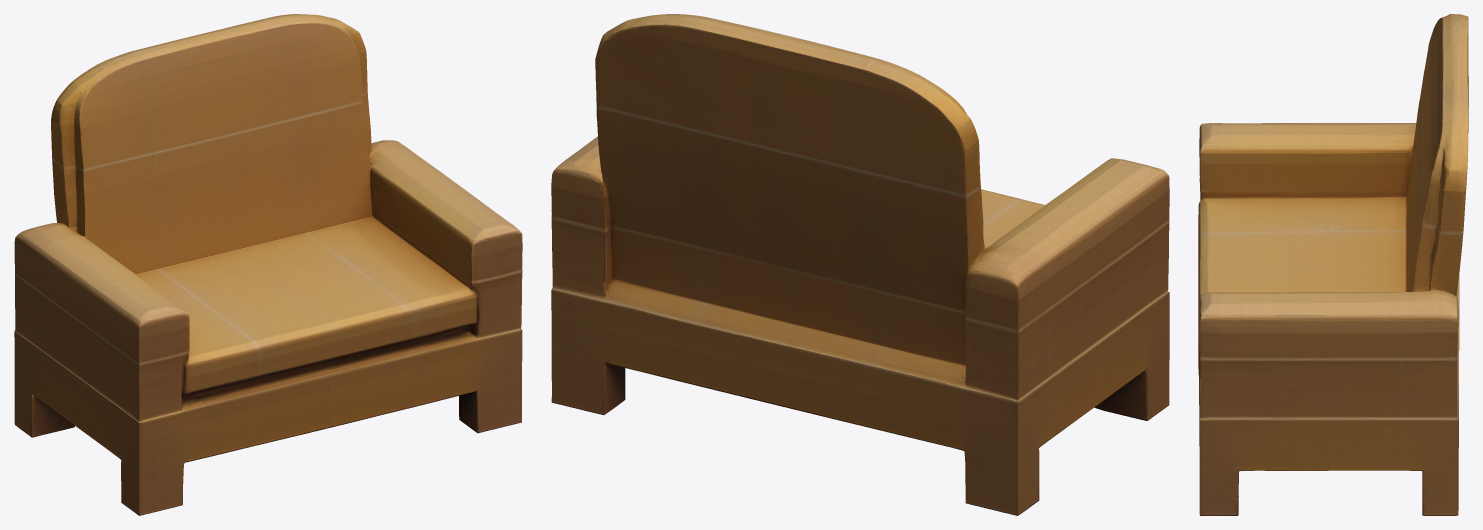
The model's file is sofa_3.glb.
3 views of the same model, side by side, from view 1: azimuth 30°, elevation 25°; view 2: azimuth 150°, elevation 25°; view 3: azimuth 270°, elevation 25° (orthographic). The views are drawn at different scales.
Parts seen in each view (by area): view 1: world; view 2: world; view 3: world.
Boxes of the visible parts, box(x1,y1,x2,y2) form: world: box(14, 14, 522, 515); world: box(551, 14, 1169, 515); world: box(1198, 14, 1468, 515).
Size of the model in its own units: 0.6857 by 0.5857 by 0.4025.
Materials: 1 (1 with a texture image).
